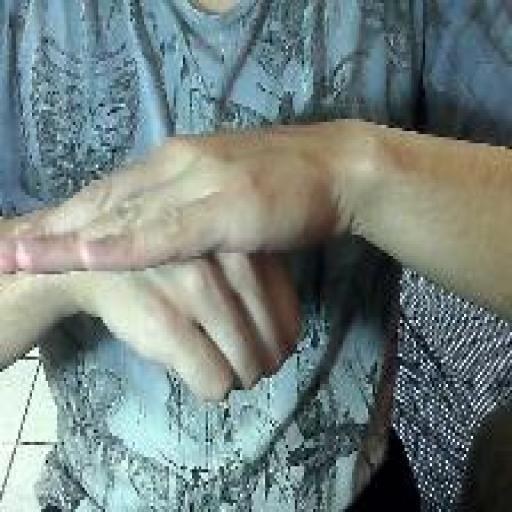Inu -dog-: (0, 126, 306, 409)
